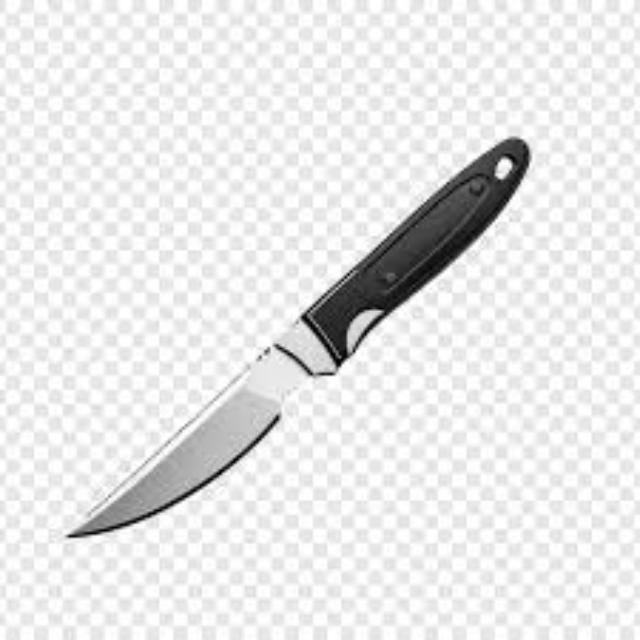Knife: (63, 135, 529, 538)
